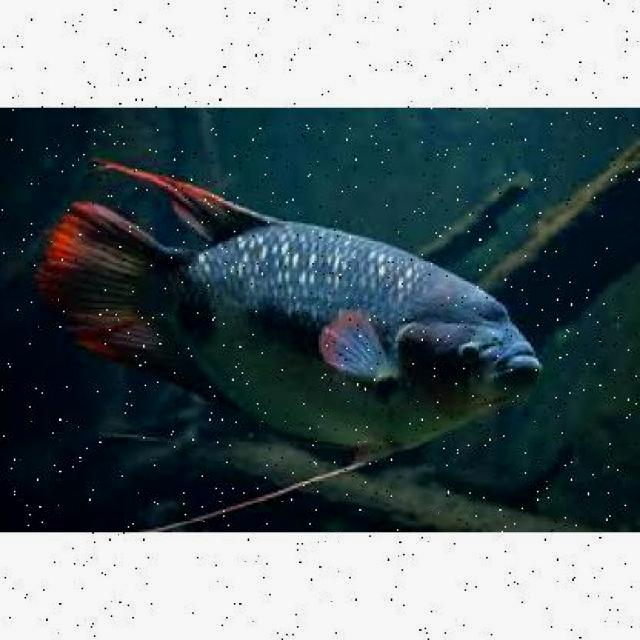gurame: (66, 198, 542, 442)
